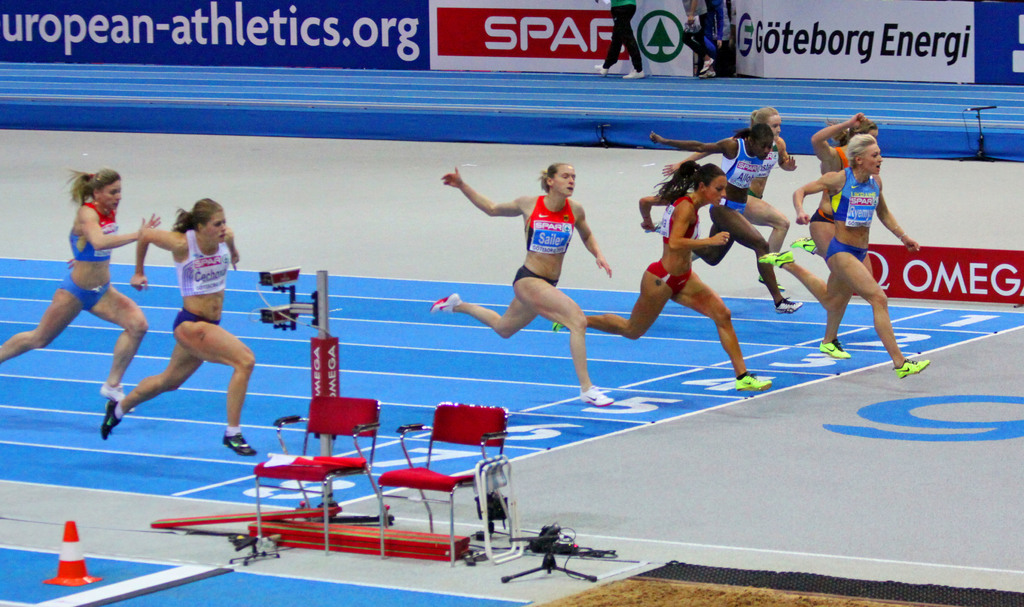Person: (0, 0, 930, 456)
